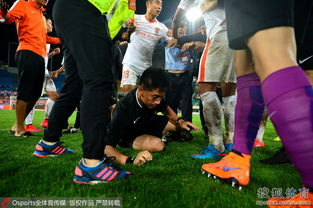10+: (5, 1, 312, 205)
down: (101, 63, 200, 171)
